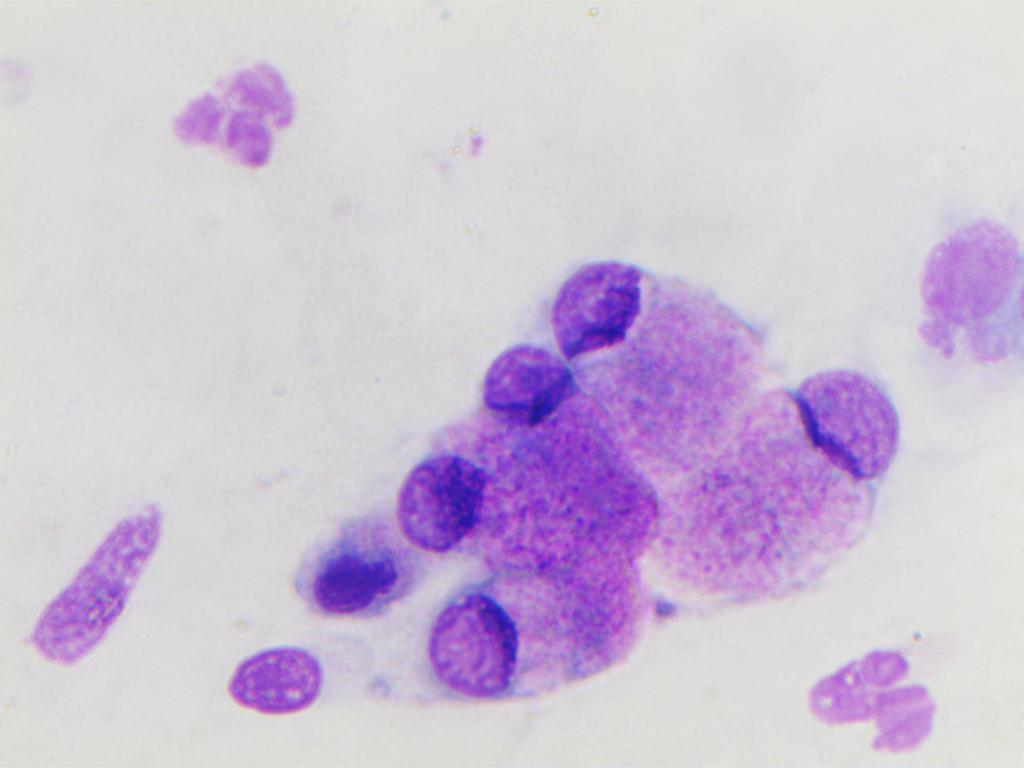artifact: (27, 487, 181, 669), (803, 633, 950, 760), (144, 66, 302, 180), (286, 528, 412, 626)
epithelial: (918, 217, 1024, 399), (203, 627, 378, 736)
goblet_cell: (421, 553, 656, 718), (733, 362, 899, 554), (546, 257, 743, 413), (395, 441, 607, 560), (456, 340, 575, 435)
